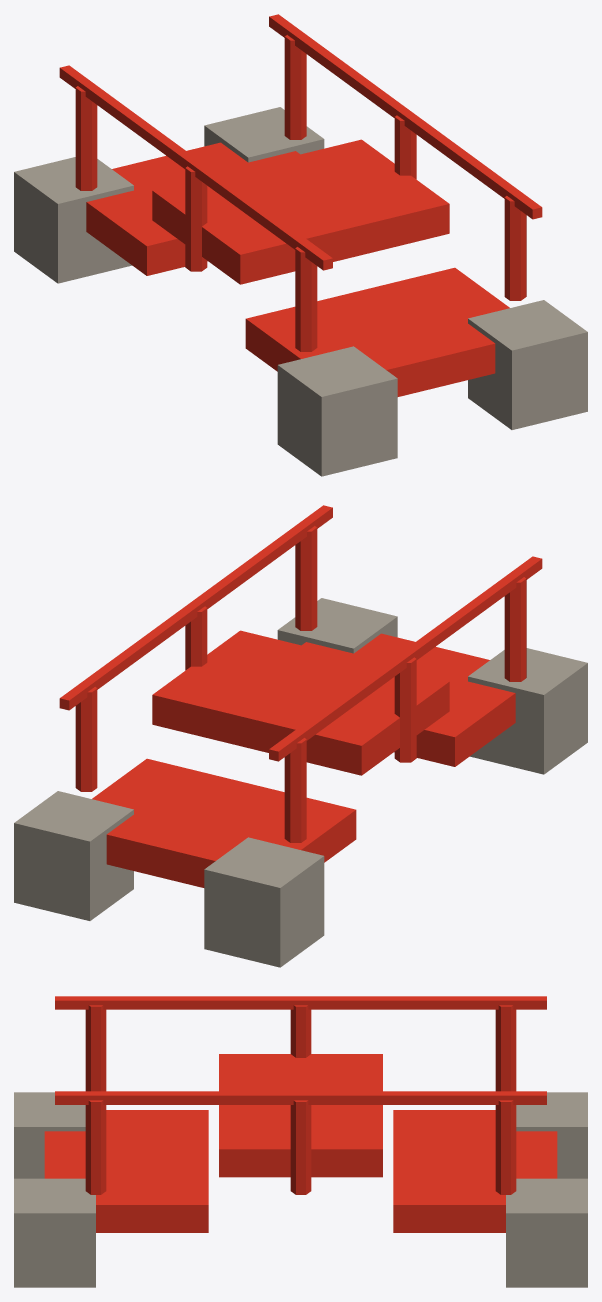
File: stone_bridge.glb
3 views of the same model, one above another, from view 1: azimuth 30°, elevation 25°; view 2: azimuth 150°, elevation 25°; view 3: azimuth 270°, elevation 25° (orthographic). The views are drawn at different scales.
Parts seen in each view (by area): view 1: stone_bridge; view 2: stone_bridge; view 3: stone_bridge.
Boxes of the visible parts, <box> form: stone_bridge: <box>14,14,587,476</box>; stone_bridge: <box>14,505,587,967</box>; stone_bridge: <box>14,996,587,1287</box>.
Size of the model in its own units: 2.8 by 1.95 by 5.6.
